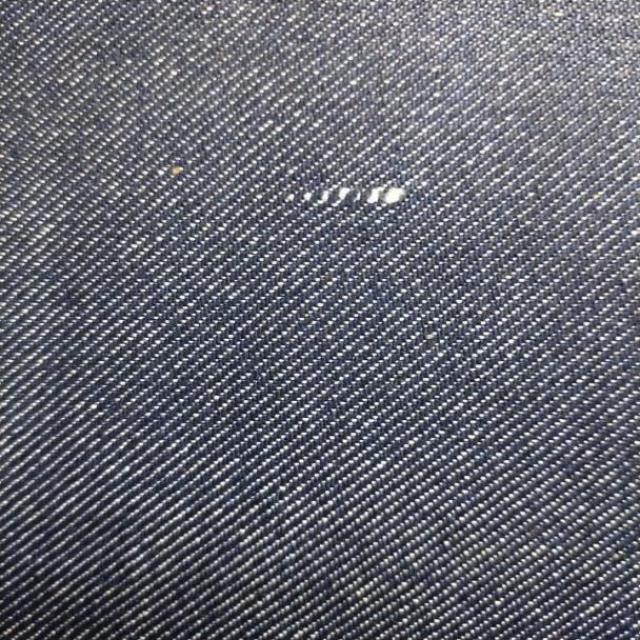Knot: (284, 185, 407, 205)
